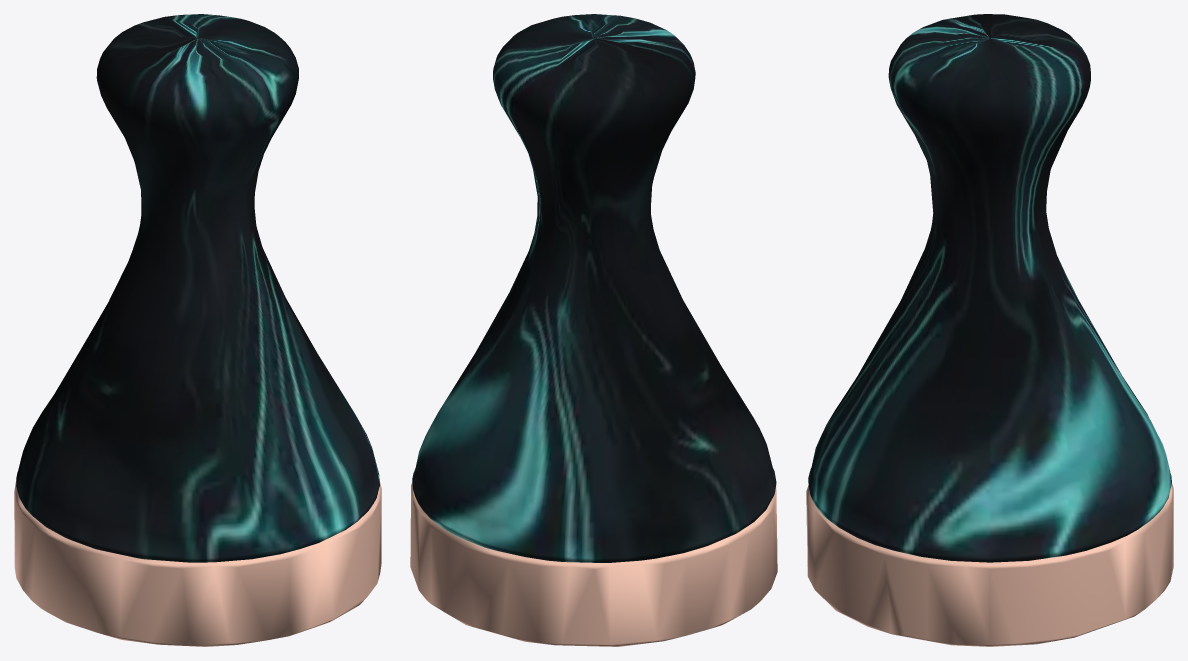
File: pesec_cerna.glb
3 renders of one model, left to right at view 1: azimuth 30°, elevation 25°; view 2: azimuth 150°, elevation 25°; view 3: azimuth 270°, elevation 25°, orthographic.
Visible parts, largest first — view 1: pesec_cerna; view 2: pesec_cerna; view 3: pesec_cerna.
Boxes of the visible parts, x1,y1,x2,y2 form: pesec_cerna: (14,14,381,646); pesec_cerna: (410,14,777,646); pesec_cerna: (806,14,1173,646).
Size of the model in its own units: 0.058 by 0.0928 by 0.058.
2 materials, 1 textured.
